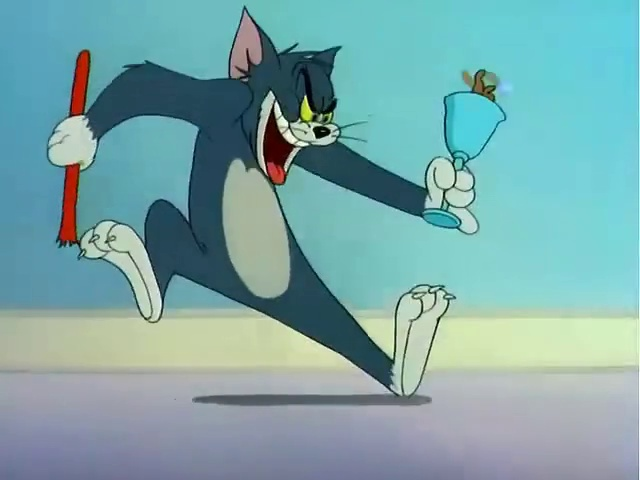tom: (69, 1, 468, 389)
